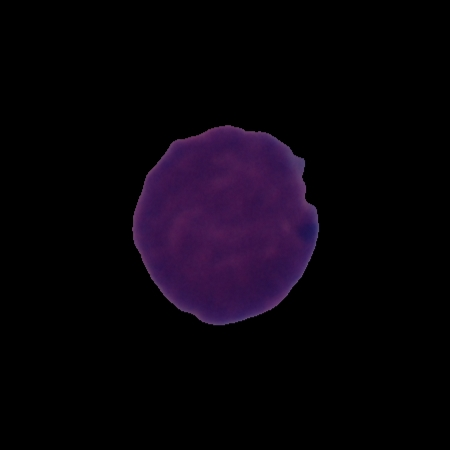ALL: (127, 119, 325, 331)
